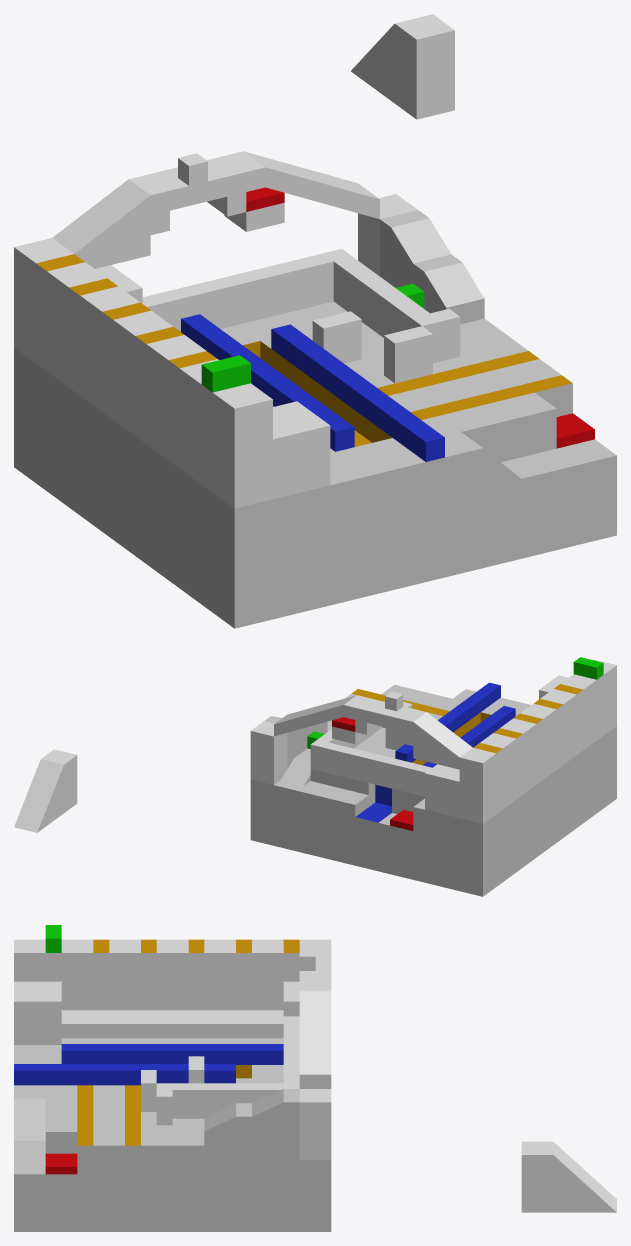
File: Nivel_1.fbx
3 views of the same model, one above another, from view 1: azimuth 30°, elevation 25°; view 2: azimuth 150°, elevation 25°; view 3: azimuth 270°, elevation 25° (orthographic). The views are drawn at different scales.
Visible parts, largest first — view 1: Cube, Cube.001, Cube.008, Cube.018, Cube.009, Cube.007, Cube.002, Cube.012, Cube.019, Cube.006, Cube.014, Cube.010 (+7 smaller); view 2: Cube, Cube.001, Cube.008, Cube.018, Cube.012, Cube.004, Cube.011, Cube.019, Cube.007, Cube.005, Cube.010, Cube.006 (+4 smaller); view 3: Cube, Cube.001, Cube.003, Cube.009, Cube.008, Cube.006, Cube.007, Cube.019, Cube.002, Cube.014, Cube.011, Cube.016 (+8 smaller).
Boxes of the visible parts, <box> form: Cube: <box>14,301,616,628</box>; Cube.001: <box>14,238,272,508</box>; Cube.008: <box>351,14,454,119</box>; Cube.018: <box>52,170,188,268</box>; Cube.009: <box>380,210,484,324</box>; Cube.007: <box>271,324,444,461</box>; Cube.002: <box>253,401,330,503</box>; Cube.012: <box>227,249,352,324</box>; Cube.019: <box>207,151,379,219</box>; Cube.006: <box>181,314,354,451</box>; Cube.014: <box>333,257,429,337</box>; Cube.010: <box>167,153,284,231</box>; Cube: <box>250,684,616,896</box>; Cube.001: <box>459,659,616,823</box>; Cube.008: <box>14,749,77,832</box>; Cube.018: <box>390,706,472,769</box>; Cube.012: <box>310,739,386,785</box>; Cube.004: <box>425,764,471,820</box>; Cube.011: <box>250,721,287,784</box>; Cube.019: <box>274,695,379,736</box>; Cube.007: <box>395,682,500,762</box>; Cube.005: <box>380,756,431,796</box>; Cube.010: <box>332,691,403,743</box>; Cube.006: <box>423,706,515,767</box>; Cube: <box>14,1038,331,1231</box>; Cube.001: <box>14,939,331,1010</box>; Cube.003: <box>61,1010,283,1038</box>; Cube.009: <box>204,1089,299,1159</box>; Cube.008: <box>521,1141,616,1212</box>; Cube.006: <box>61,1044,283,1064</box>; Cube.007: <box>14,1064,235,1085</box>; Cube.019: <box>299,977,331,1088</box>; Cube.002: <box>14,981,61,1044</box>; Cube.014: <box>172,1083,283,1118</box>; Cube.011: <box>299,1089,331,1159</box>; Cube.016: <box>156,1083,172,1125</box>.
Bounding box in the file's own units: 3000 × 1400 × 3800.
